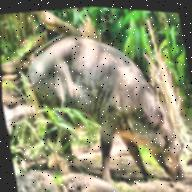boar: (26, 19, 192, 192)
